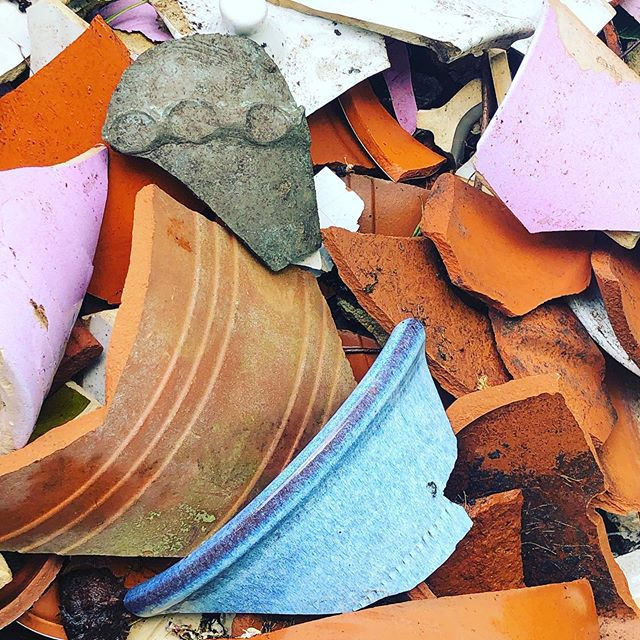trash: (1, 1, 636, 632)
